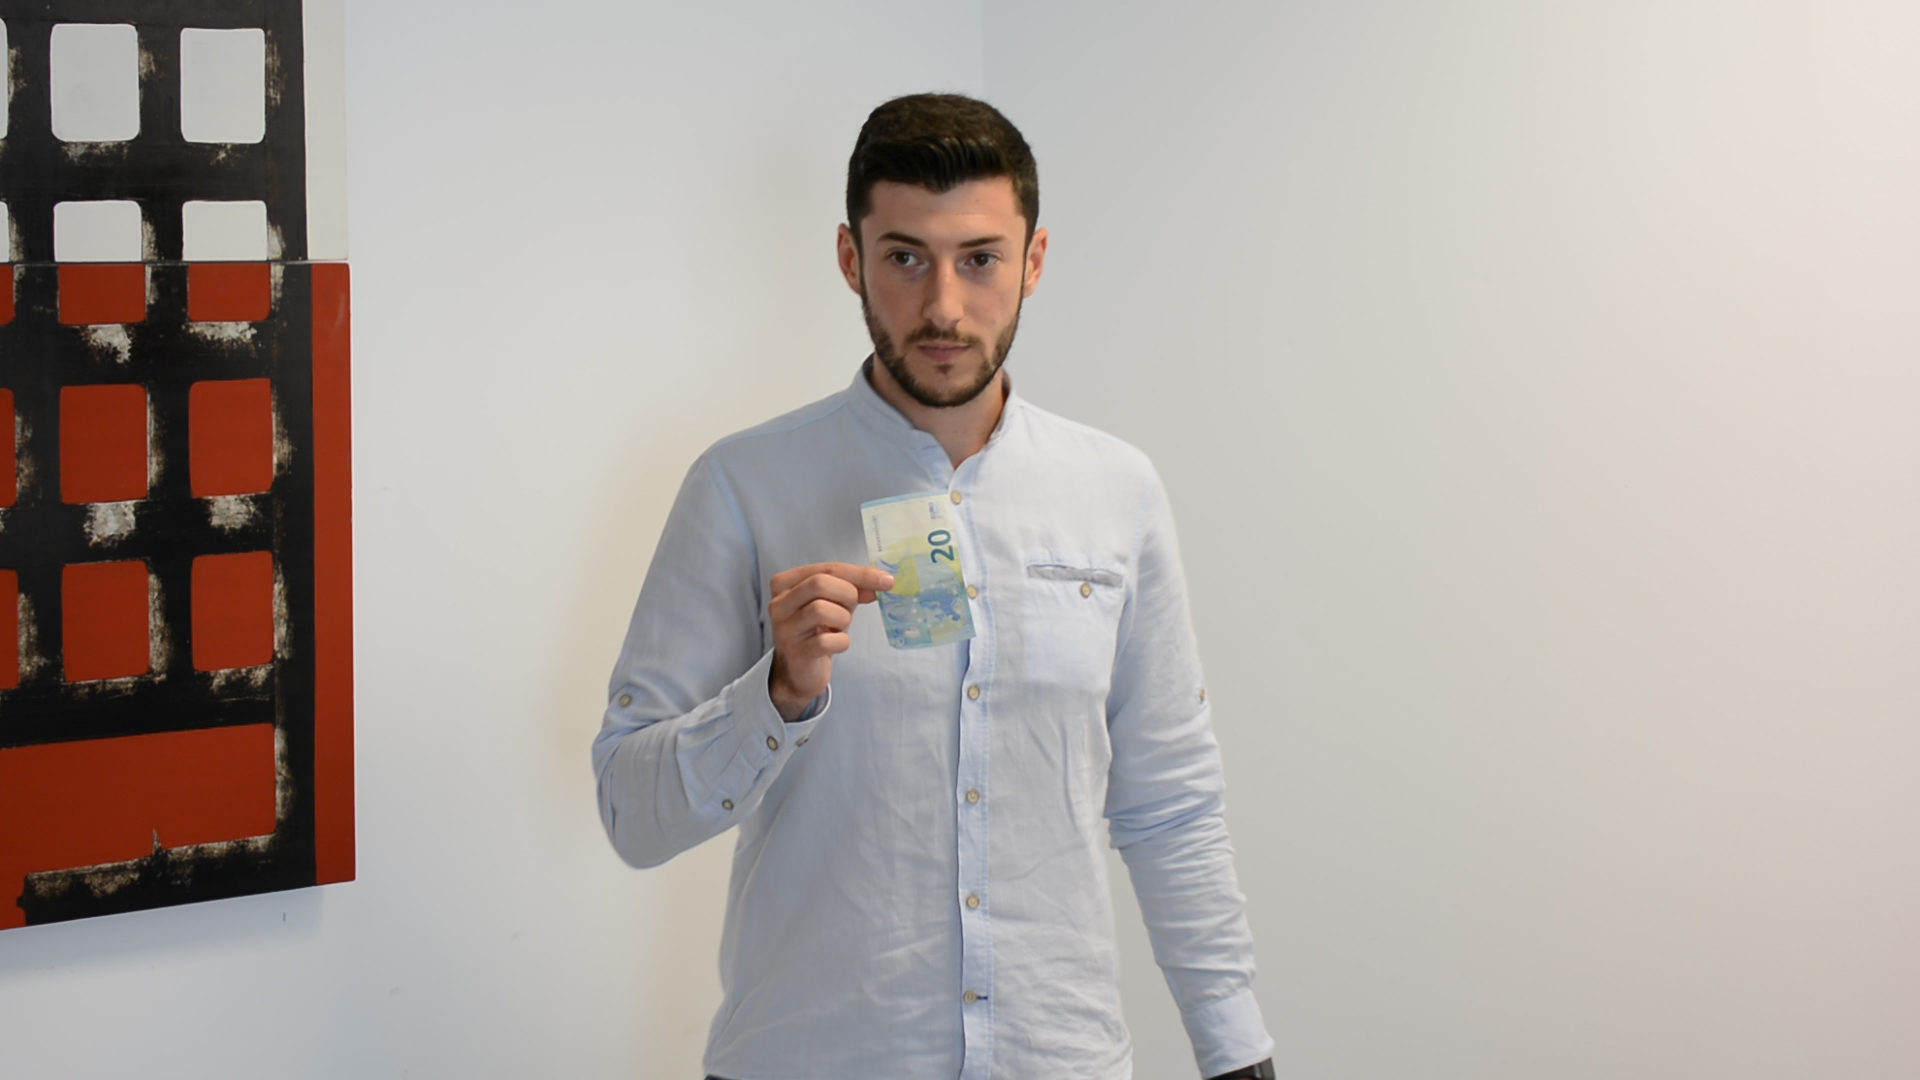billete: (860, 488, 977, 650)
